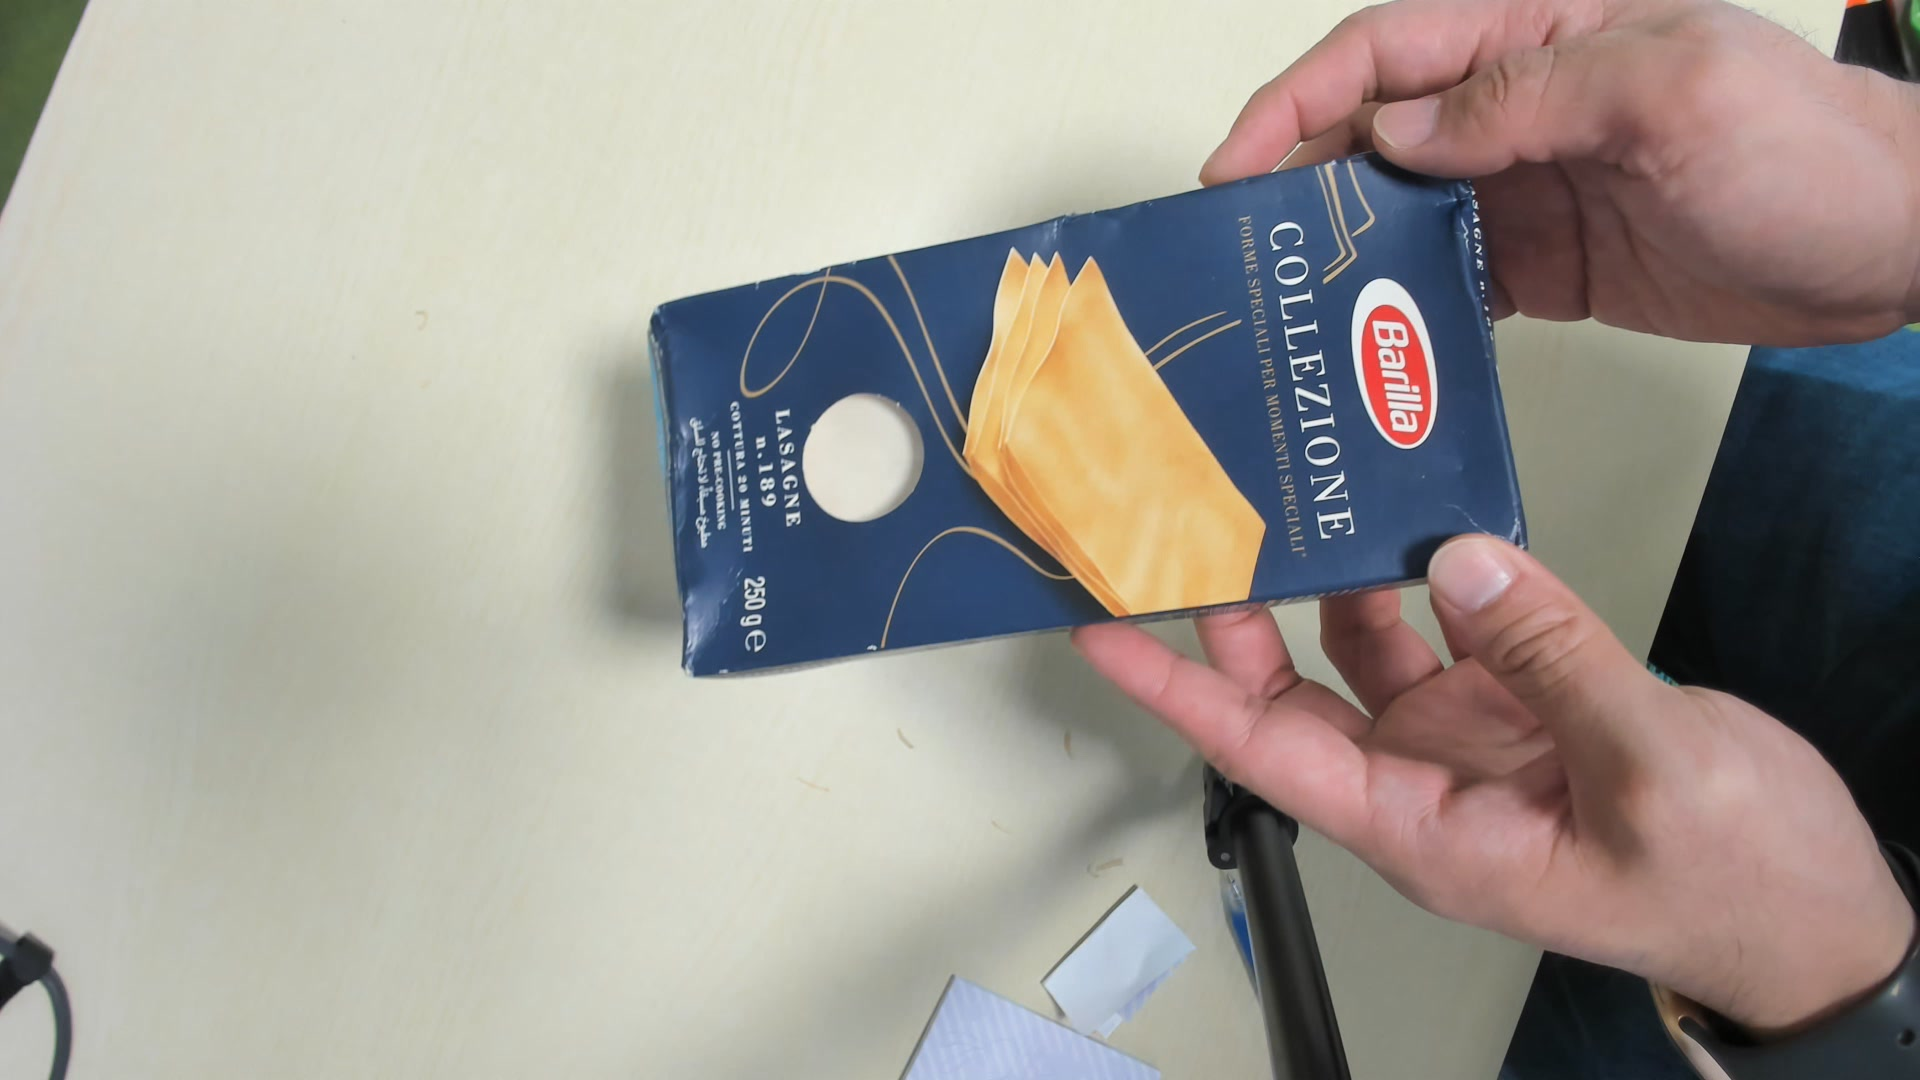InstantMeals_200_299g_NonHalal_NonHealthy: (655, 148, 1523, 688)
